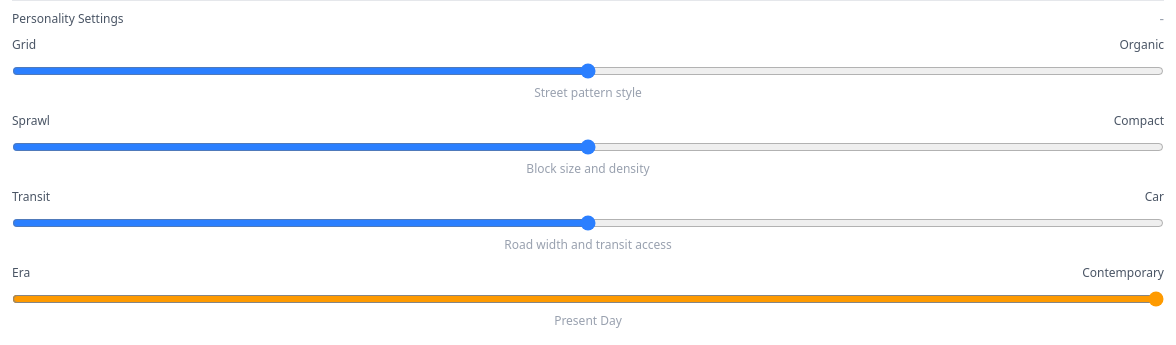
it: CollapsiblePersonalitySliders › collapses when header is clicked again
This screenshot has width=1176, height=345.
Click the text "Personality Settings" at {"x": 68, "y": 19}, box [12,11,124,27]
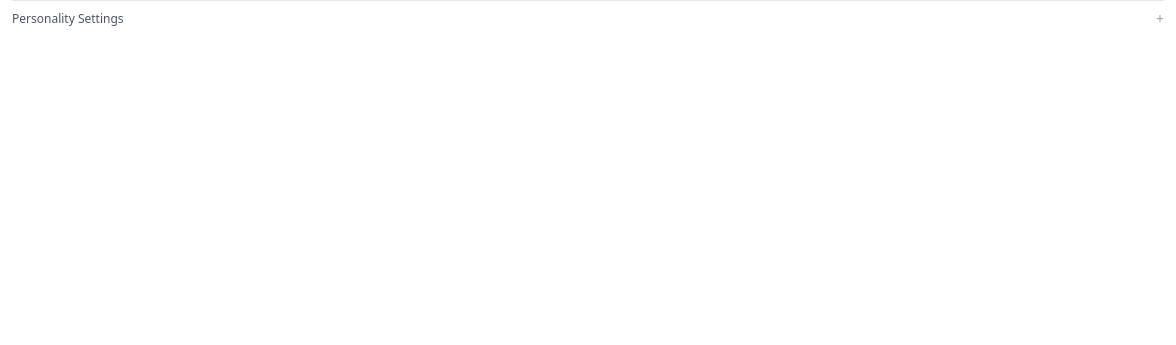
Result: the element with test id "personality-sliders" is gone
